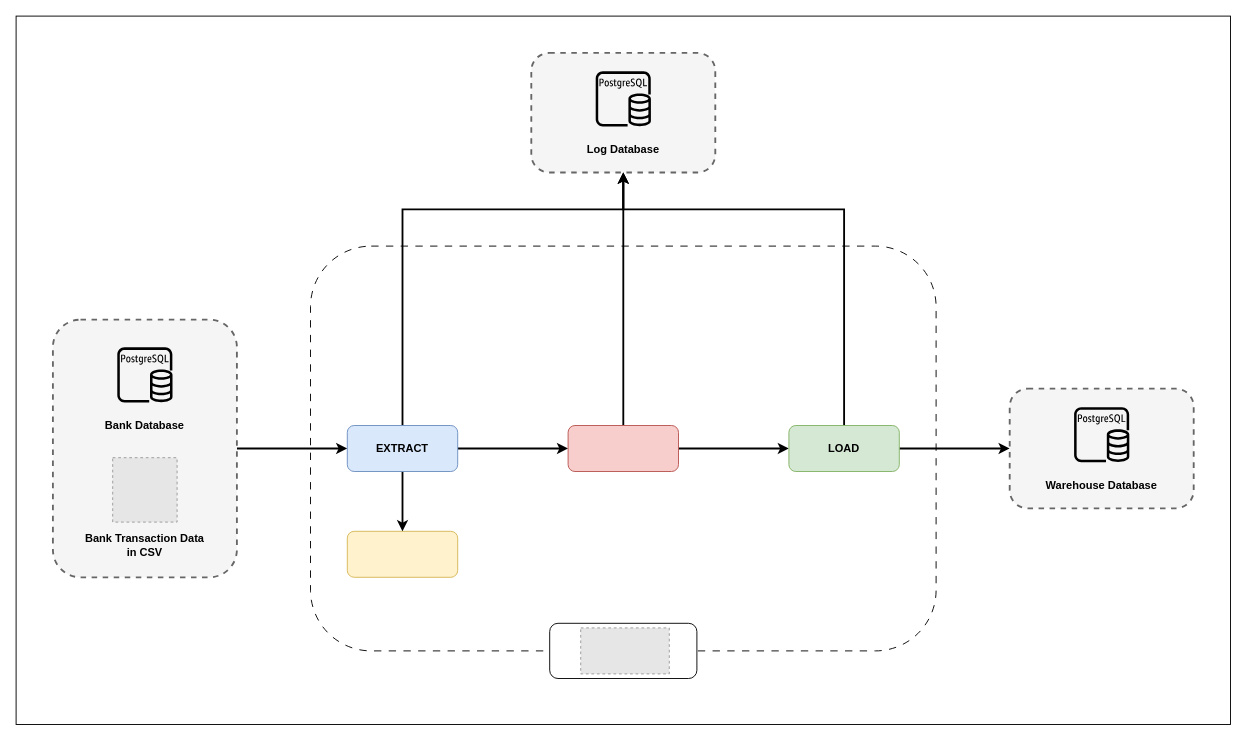
Image size: 1247x741. Some labels were removed from this diagram. Grey dashed boxes stand in for pictures. The box of each missing label's shape, as (x1, y1, x2, y2) in pixels:
Data Profiling Report: (346, 530, 458, 577)
TRANSFORM: (567, 425, 678, 472)
